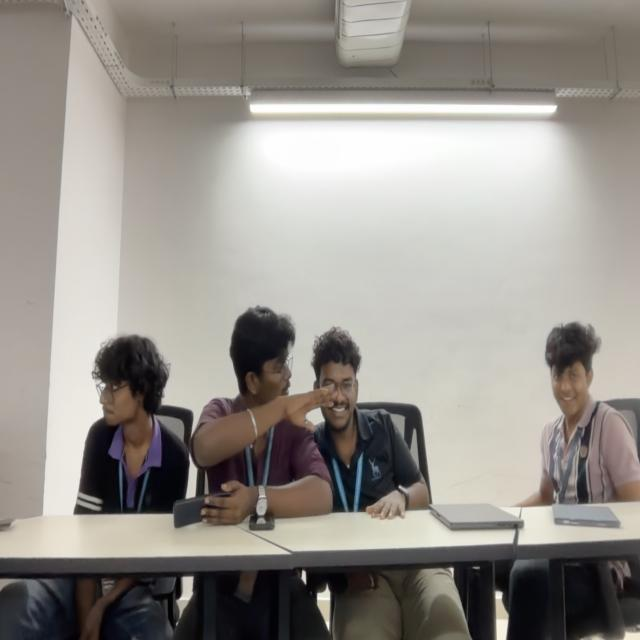Isolated: (536, 322, 640, 505)
socializing: (71, 304, 429, 523)
